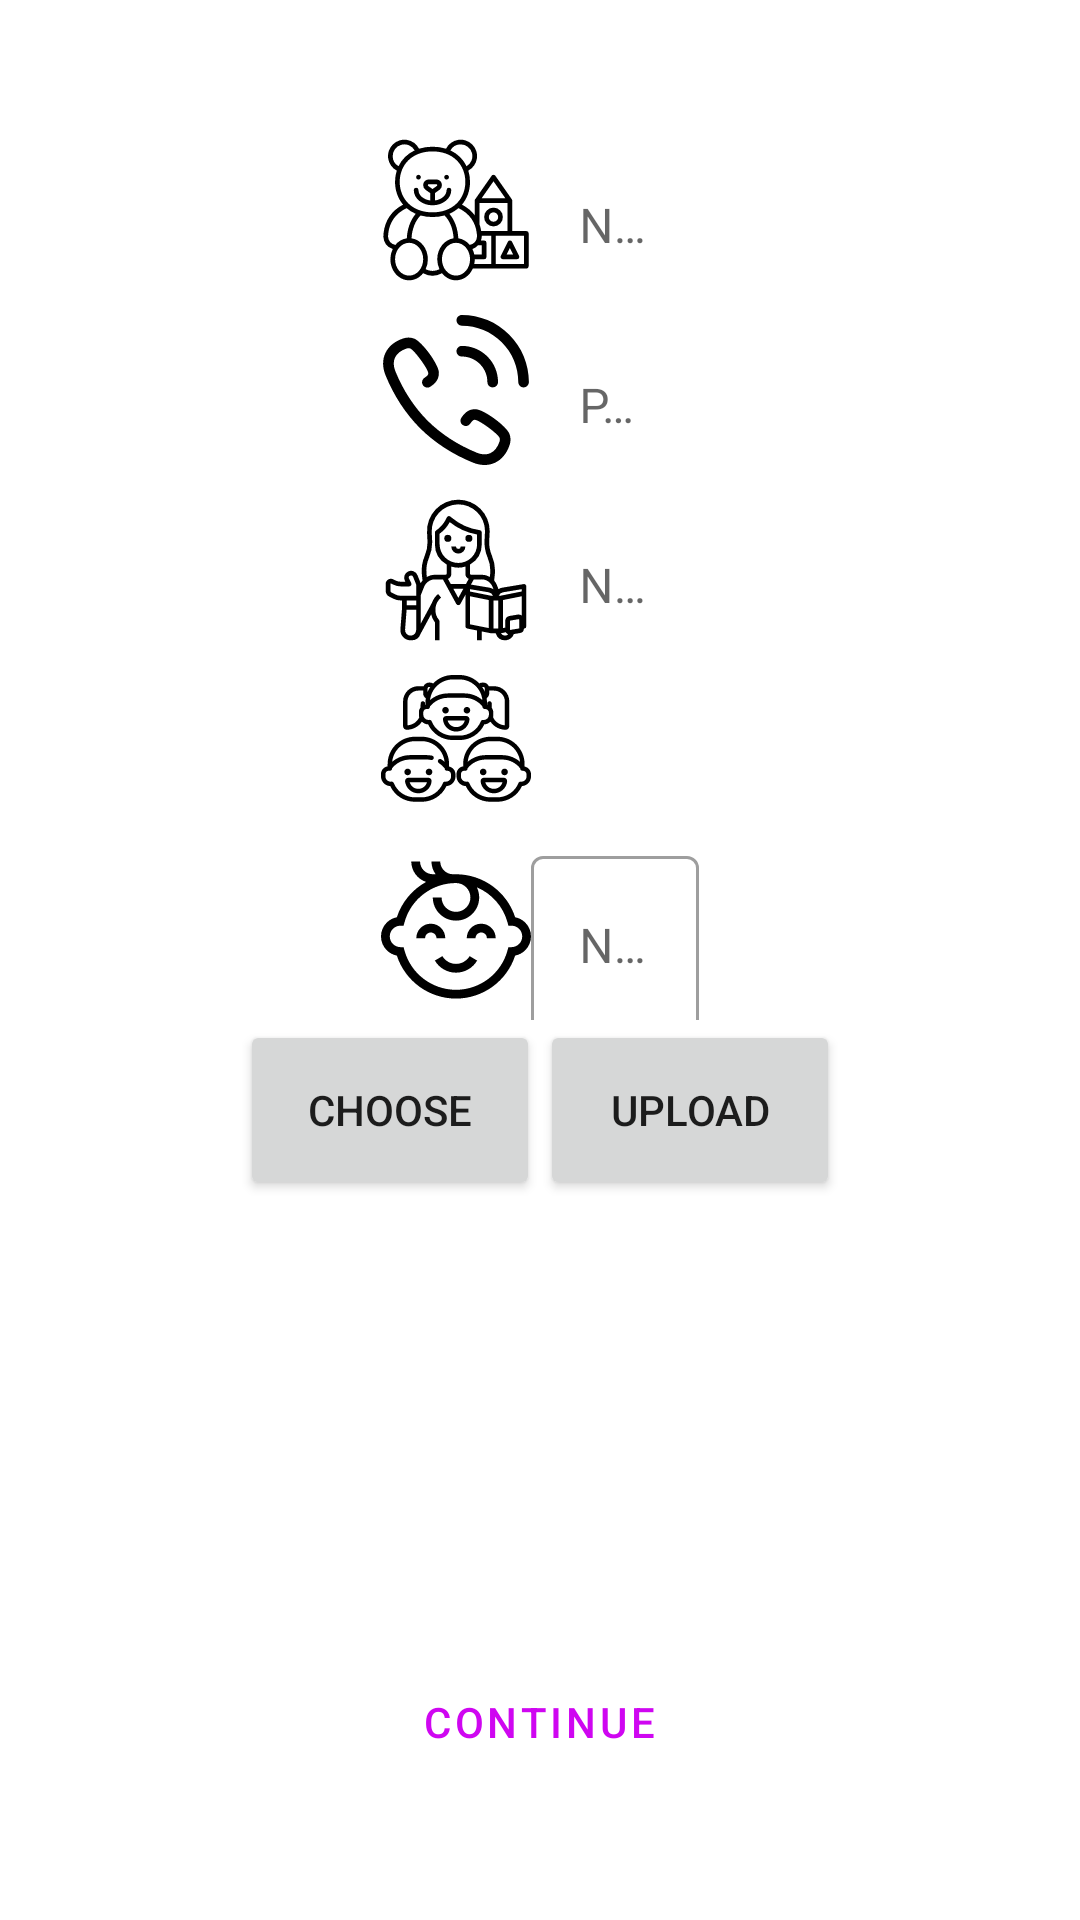

Where icons sit on this 1080w x 1920h app screen, as [left=x1, top=y1, right=x2, bottom=y2]:
baby boy: [left=381, top=861, right=531, bottom=999]
toys: [left=383, top=139, right=529, bottom=281]
